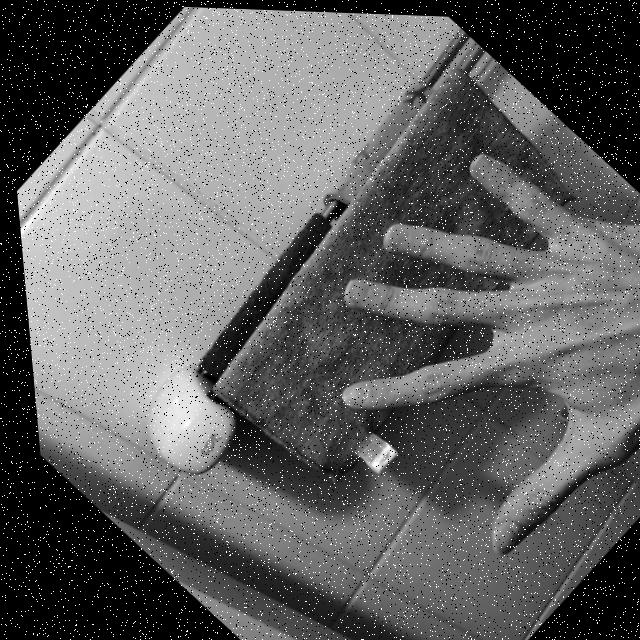hand: (248, 71, 640, 607)
